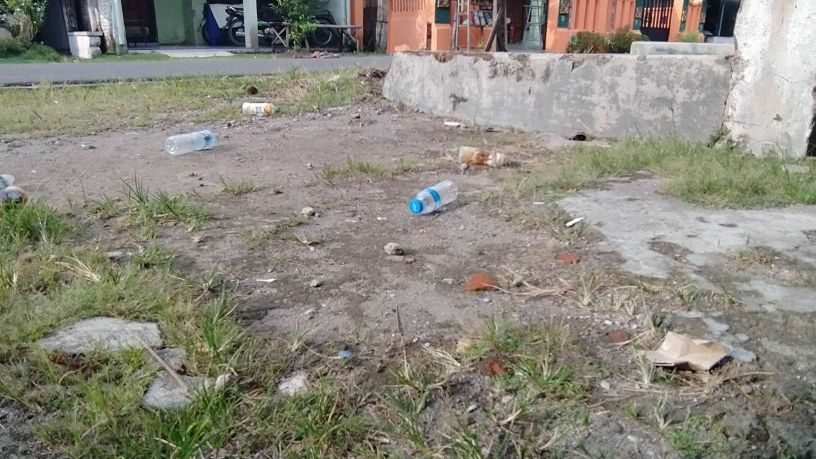botol: (161, 117, 228, 167), (405, 165, 459, 220), (459, 133, 511, 169), (238, 94, 292, 120)
